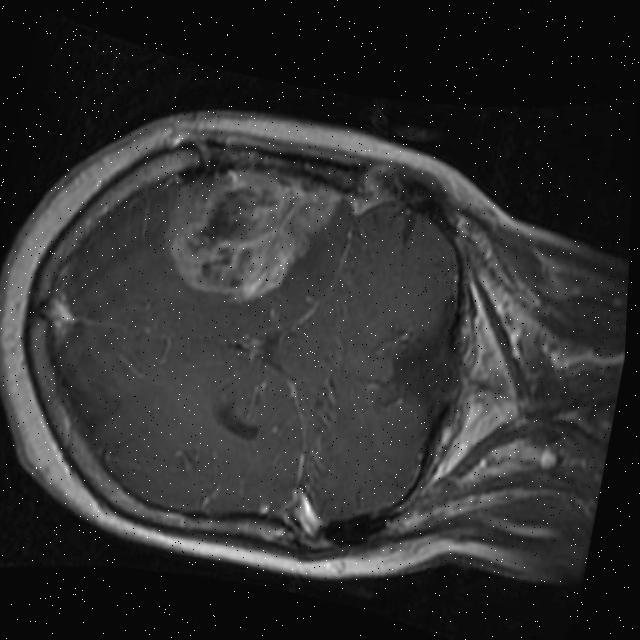Glioma: (156, 154, 344, 315)
